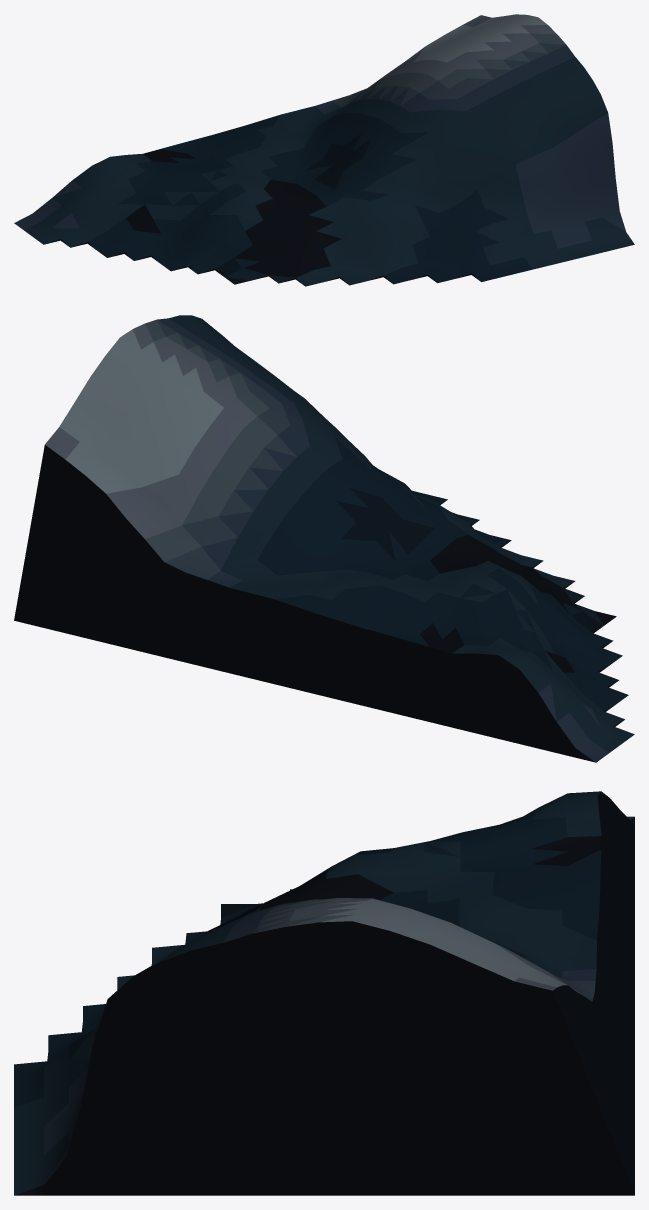
Rendered from gyges_maw_193.glb.
3 renders of one model, top to bottom at view 1: azimuth 30°, elevation 25°; view 2: azimuth 150°, elevation 25°; view 3: azimuth 270°, elevation 25°, orthographic. The views are drawn at different scales.
Visible parts, largest first — view 1: gyges_maw_193; view 2: gyges_maw_193; view 3: gyges_maw_193.
Part boxes in pixels (x1=…): gyges_maw_193: x1=14, y1=14, x2=634, y2=286; gyges_maw_193: x1=14, y1=315, x2=634, y2=762; gyges_maw_193: x1=14, y1=791, x2=634, y2=1195.
Size of the model in its own units: 13 by 4.39 by 9.
